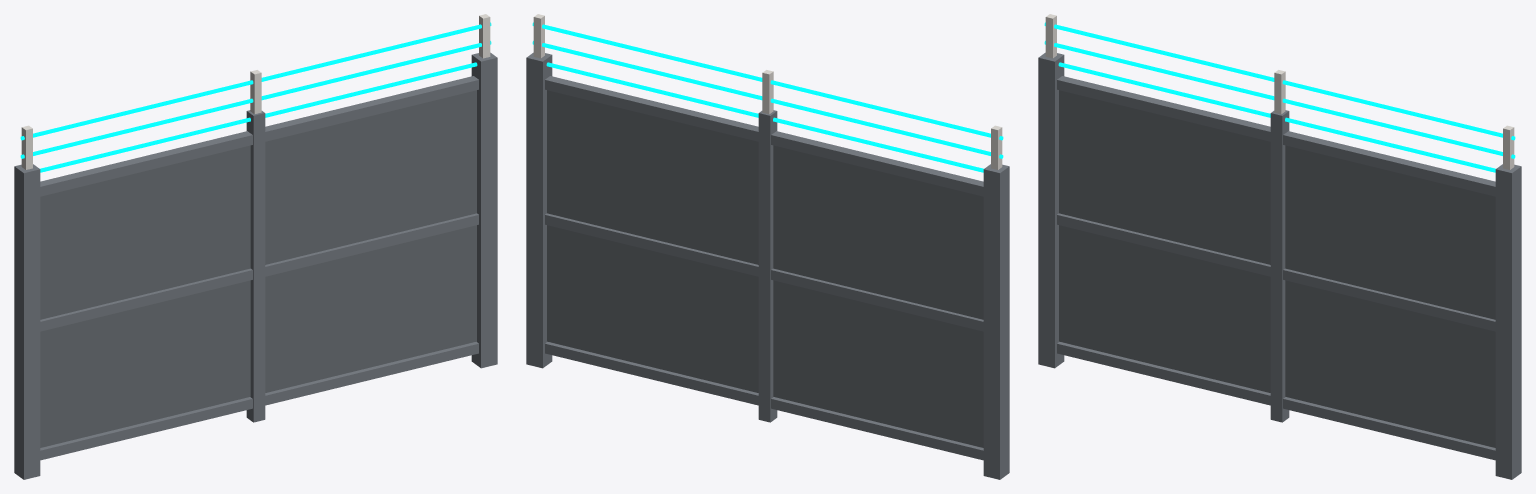
The model's file is fence_straight_4m.glb.
3 views of the same model, side by side, from view 1: azimuth 30°, elevation 25°; view 2: azimuth 150°, elevation 25°; view 3: azimuth 330°, elevation 25° (orthographic).
Parts seen in each view (by area): view 1: Mesh_Infill, Post_L, Rail_Top, Post_R, Rail_Bottom, Rail_Mid, Post_Mid, ArcWire_3, ArcWire_2, ArcWire_1; view 2: Mesh_Infill, Post_L, Rail_Top, Post_R, Rail_Bottom, Rail_Mid, Post_Mid, ArcWire_3, ArcWire_2, ArcWire_1; view 3: Mesh_Infill, Post_R, Rail_Top, Post_L, Rail_Bottom, Rail_Mid, Post_Mid, ArcWire_3, ArcWire_2, ArcWire_1.
Part boxes in pixels (x1,y1,x2,y2): Mesh_Infill: [40, 90, 476, 447]; Post_L: [14, 164, 40, 479]; Rail_Top: [40, 76, 478, 196]; Post_R: [471, 52, 497, 368]; Rail_Bottom: [40, 341, 478, 460]; Rail_Mid: [40, 213, 478, 331]; Post_Mid: [246, 110, 265, 422]; ArcWire_3: [20, 22, 491, 140]; ArcWire_2: [20, 41, 491, 158]; ArcWire_1: [40, 62, 477, 172]; Mesh_Infill: [547, 90, 983, 447]; Post_L: [983, 164, 1009, 479]; Rail_Top: [545, 76, 983, 196]; Post_R: [526, 52, 552, 368]; Rail_Bottom: [545, 341, 983, 460]; Rail_Mid: [545, 213, 983, 331]; Post_Mid: [758, 110, 777, 422]; ArcWire_3: [532, 22, 1003, 140]; ArcWire_2: [532, 41, 1003, 158]; ArcWire_1: [546, 62, 983, 172]; Mesh_Infill: [1059, 90, 1495, 447]; Post_R: [1495, 164, 1521, 479]; Rail_Top: [1057, 76, 1495, 196]; Post_L: [1038, 52, 1064, 368]; Rail_Bottom: [1057, 341, 1495, 460]; Rail_Mid: [1057, 213, 1495, 331]; Post_Mid: [1270, 110, 1289, 422]; ArcWire_3: [1044, 22, 1515, 140]; ArcWire_2: [1044, 41, 1515, 158]; ArcWire_1: [1058, 62, 1495, 172].
Bounding box in the file's own units: 4.04 × 2.83 × 0.14.
